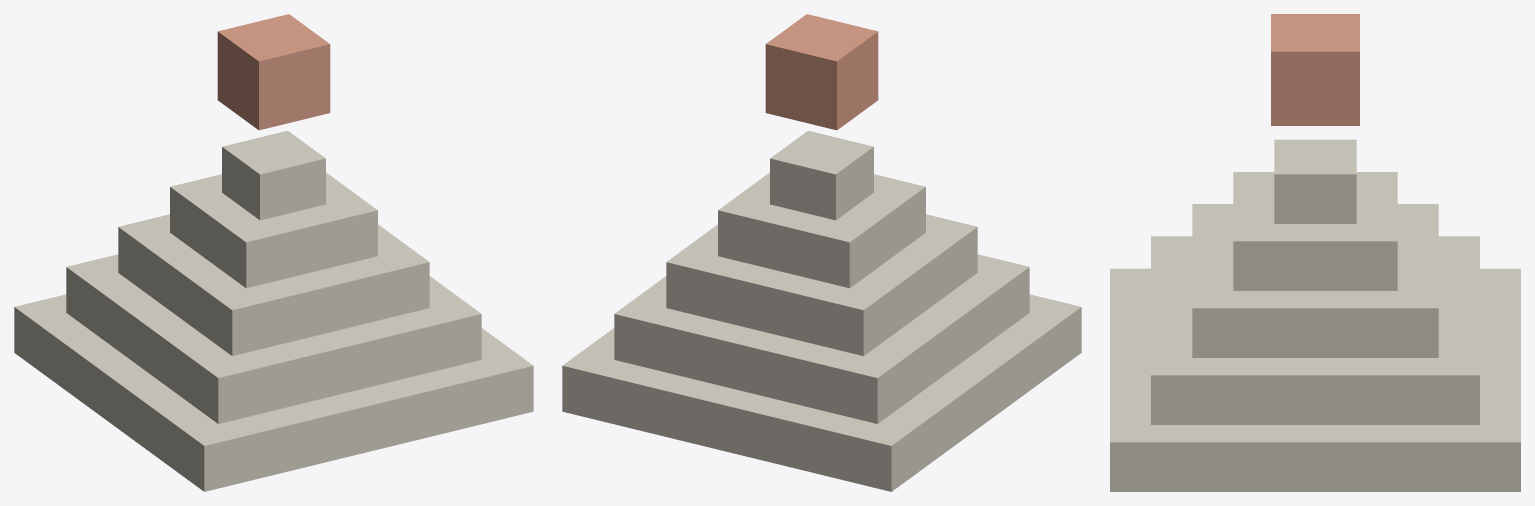
Rendered from mesoamerican_s3.glb.
3 views of the same model, side by side, from view 1: azimuth 30°, elevation 25°; view 2: azimuth 150°, elevation 25°; view 3: azimuth 270°, elevation 25° (orthographic). The views are drawn at different scales.
Visible parts, largest first — view 1: mesoamerican; view 2: mesoamerican; view 3: mesoamerican.
Part boxes in pixels (x1,y1,x2,y2): mesoamerican: (14,14,533,491); mesoamerican: (562,14,1081,491); mesoamerican: (1110,14,1520,491).
Bounding box in the file's own units: 10 × 10 × 10.
